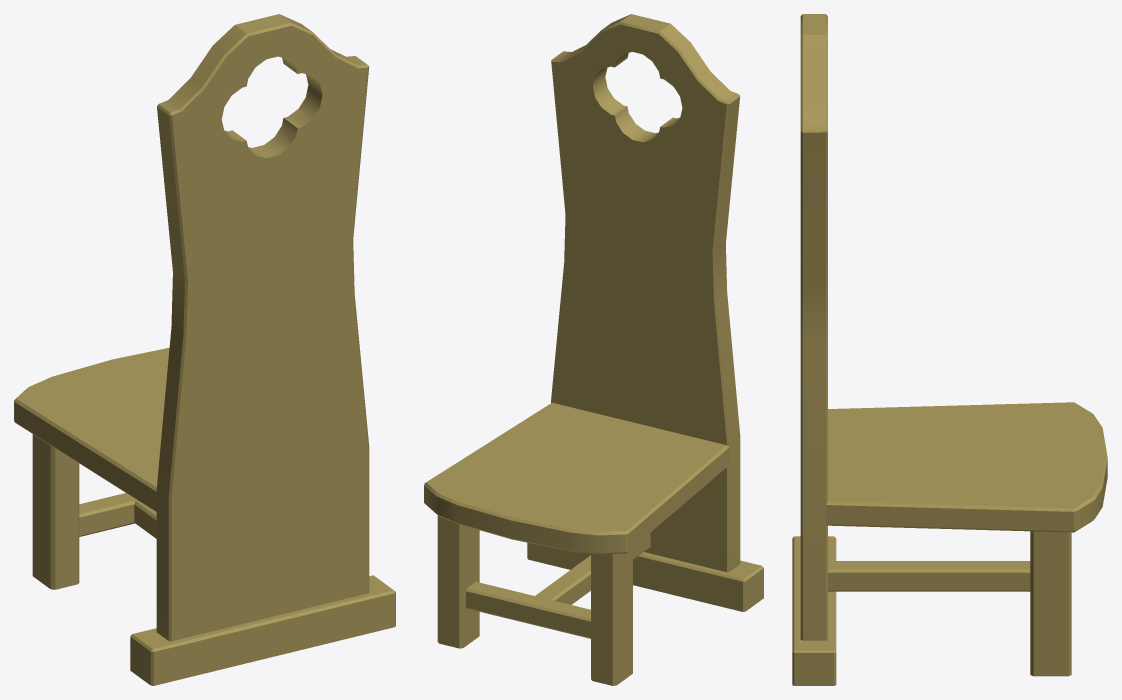
Rendered from Chair.fbx.
The picture shows the model from 3 angles, left to right: view 1: azimuth 30°, elevation 25°; view 2: azimuth 150°, elevation 25°; view 3: azimuth 270°, elevation 25°; orthographic projection. The views are drawn at different scales.
Visible parts, largest first — view 1: polySurface35, pCube568, pCube567, pCube570, pCube571, pCube572; view 2: polySurface35, pCube568, pCube567, pCube570, pCube569, pCube571, pCube572; view 3: pCube568, polySurface35, pCube572, pCube569, pCube567.
Part boxes in pixels (<box>): polySurface35: <box>156,14,369,641</box>; pCube568: <box>14,347,169,511</box>; pCube567: <box>130,575,395,685</box>; pCube570: <box>32,434,79,589</box>; pCube571: <box>79,493,136,536</box>; pCube572: <box>134,500,156,538</box>; polySurface35: <box>551,14,740,572</box>; pCube568: <box>424,402,729,554</box>; pCube567: <box>527,542,763,611</box>; pCube570: <box>591,548,632,685</box>; pCube569: <box>437,515,479,648</box>; pCube571: <box>466,581,590,638</box>; pCube572: <box>535,533,650,604</box>; pCube568: <box>826,402,1107,532</box>; polySurface35: <box>800,14,827,640</box>; pCube572: <box>828,561,1030,591</box>; pCube569: <box>1030,531,1071,676</box>; pCube567: <box>792,536,836,685</box>.
Size of the model in its own units: 1.07 by 2.6 by 1.23.
